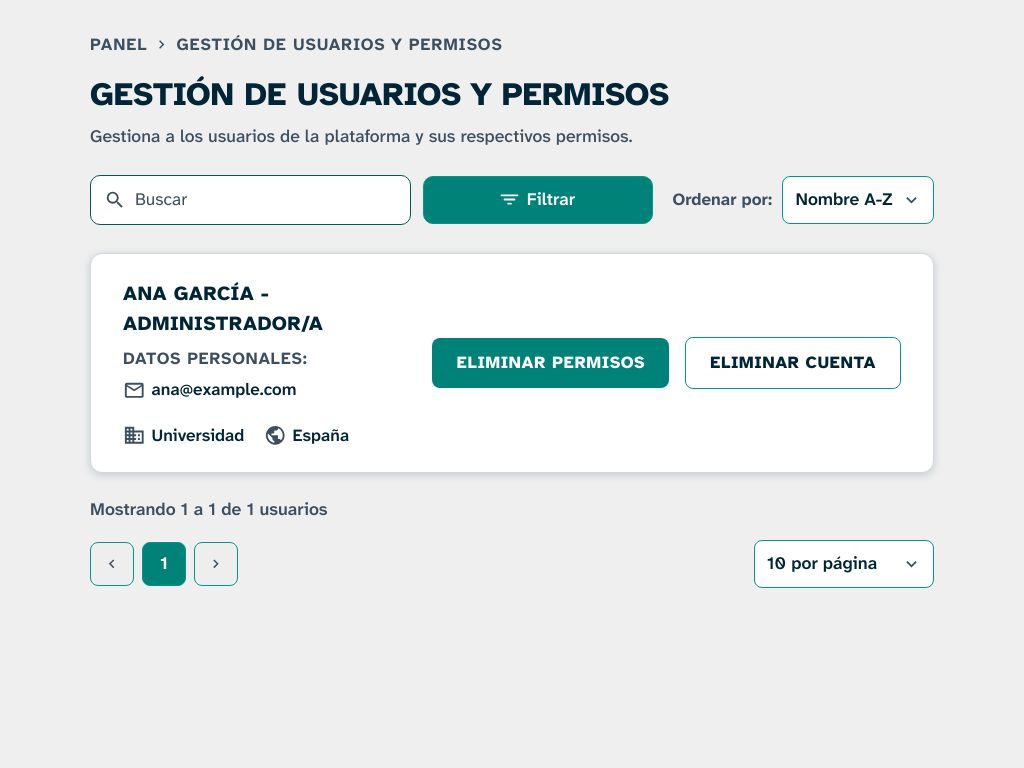
Scenario: UsersManagementPage › retira permisos de administrador y conserva el usuario
Click the button "ELIMINAR PERMISOS". click: (551, 363)
box: [432,338,669,388]
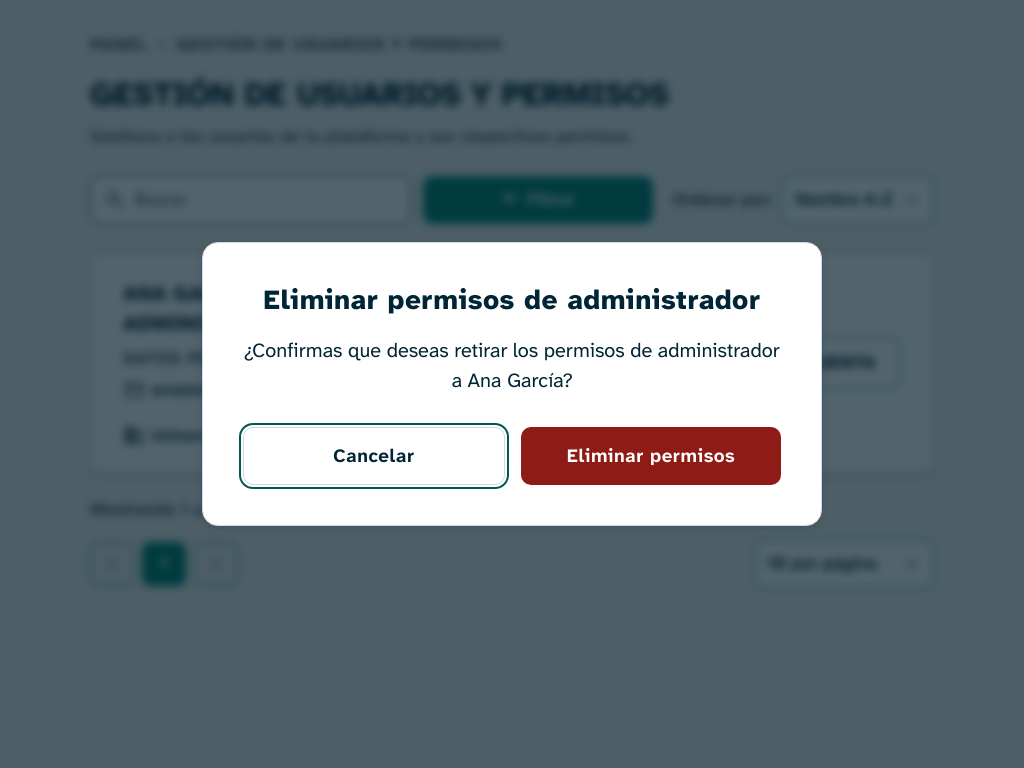
Click the button "Eliminar permisos". click: (651, 456)
box: [521,427,781,485]
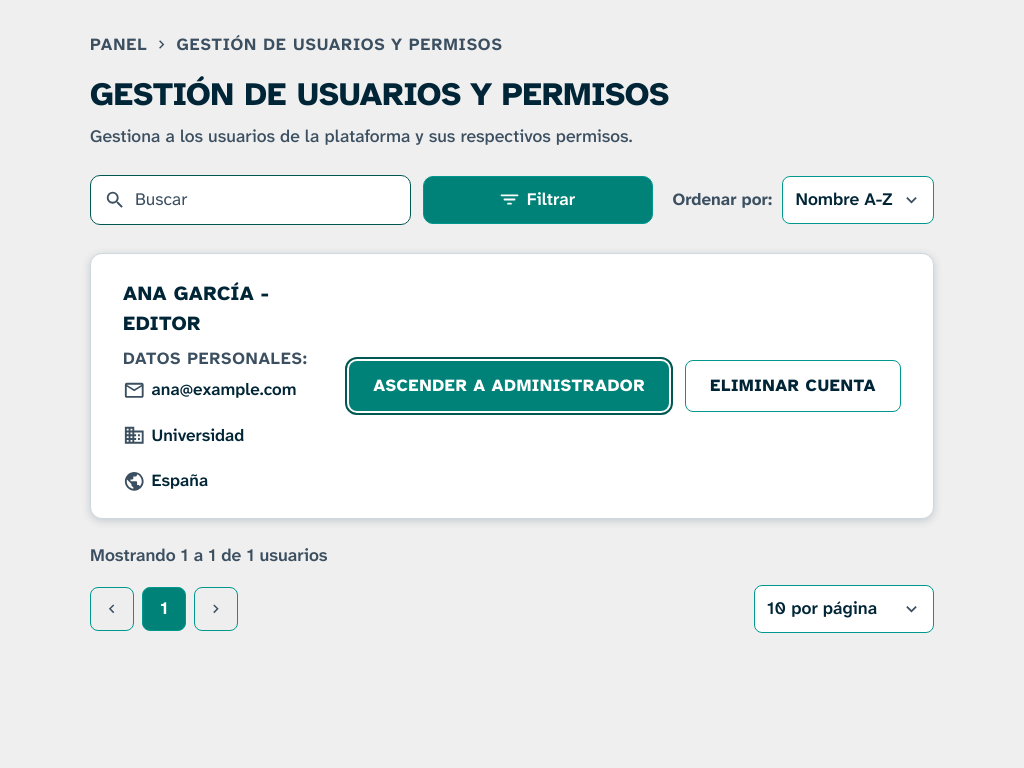
Expected: the heading "ANA GARCÍA - EDITOR" is shown, [123,280,269,336]
